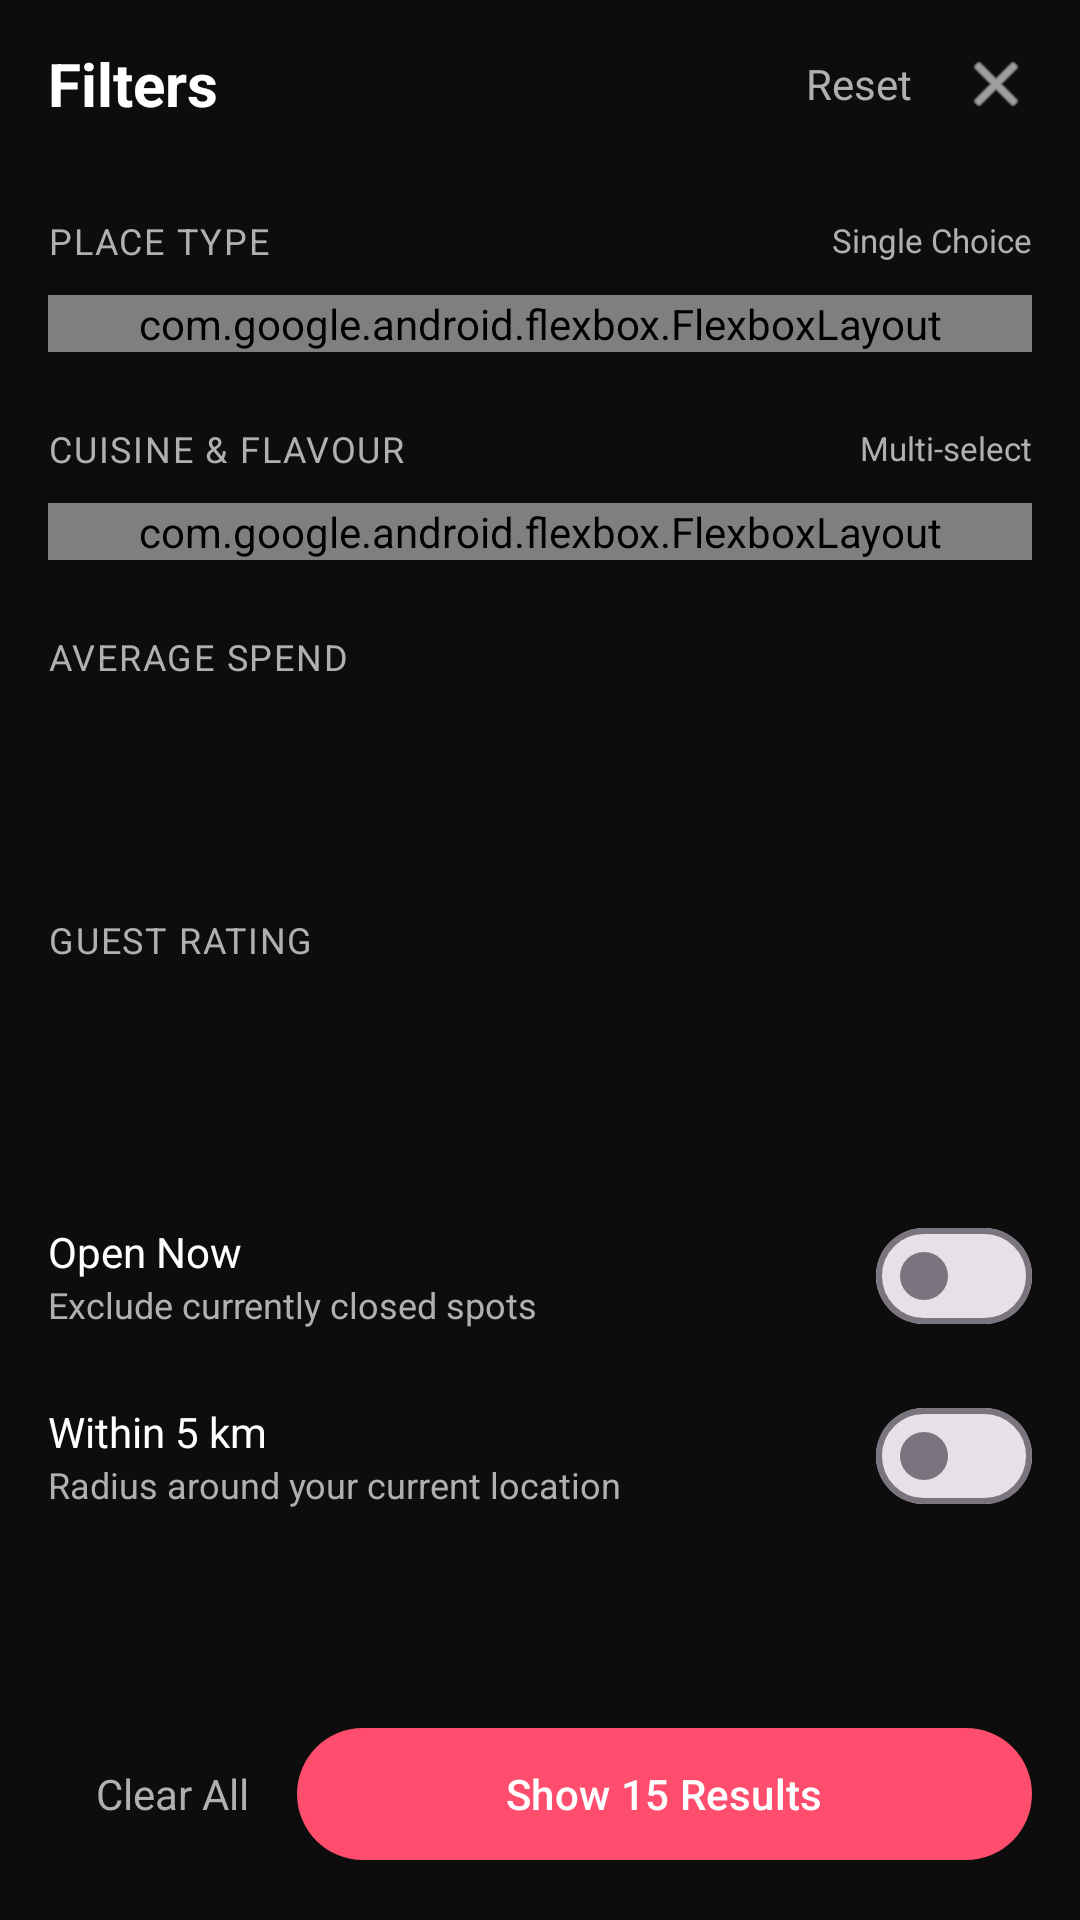

Where icons sit on this 1080px x 1920px app screen, as (x1, y1, x2, y2):
close clear cancel: (973, 61, 1019, 107)
